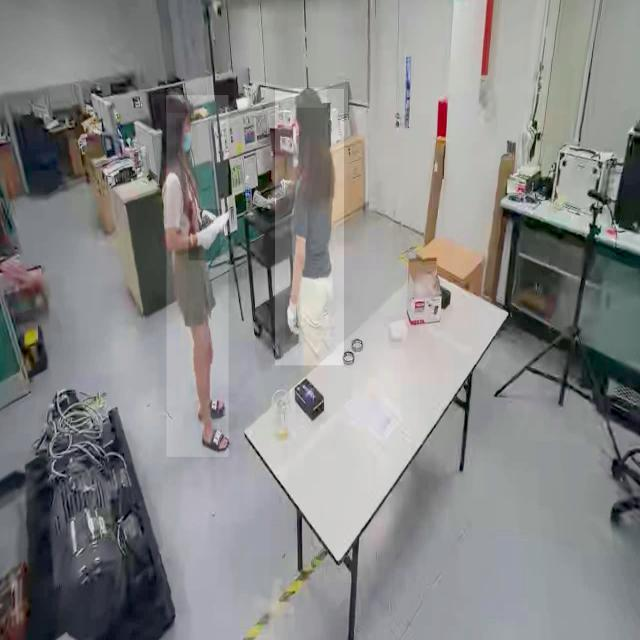face_mask: (176, 119, 198, 158)
hand_glove: (188, 209, 220, 260), (284, 295, 302, 345)
head_nohelmet: (293, 87, 327, 109), (164, 88, 192, 114)
person: (166, 95, 228, 458), (274, 89, 344, 366)
